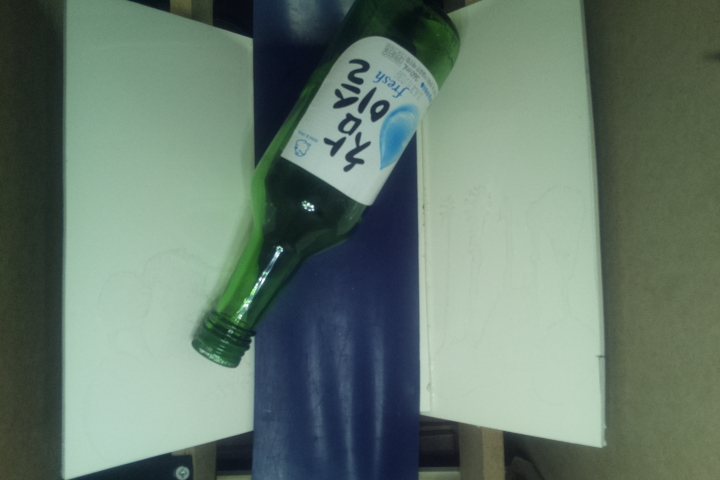soju: (190, 1, 464, 370)
